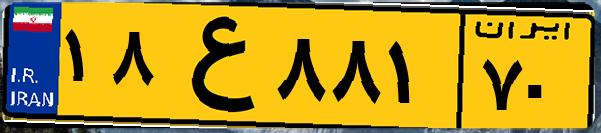0: (525, 38, 570, 115)
1: (385, 28, 445, 110), (57, 26, 110, 100)
7: (475, 38, 525, 113)
8: (270, 28, 330, 110), (330, 28, 385, 110), (110, 28, 158, 98)
ع: (158, 12, 270, 120)
